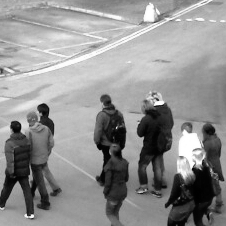person: (1, 121, 37, 218), (94, 91, 126, 187), (23, 109, 52, 212), (137, 99, 164, 199), (147, 92, 174, 191), (37, 101, 62, 198), (104, 142, 129, 226), (203, 123, 226, 213), (191, 148, 216, 226), (169, 154, 194, 226), (178, 121, 203, 181)
